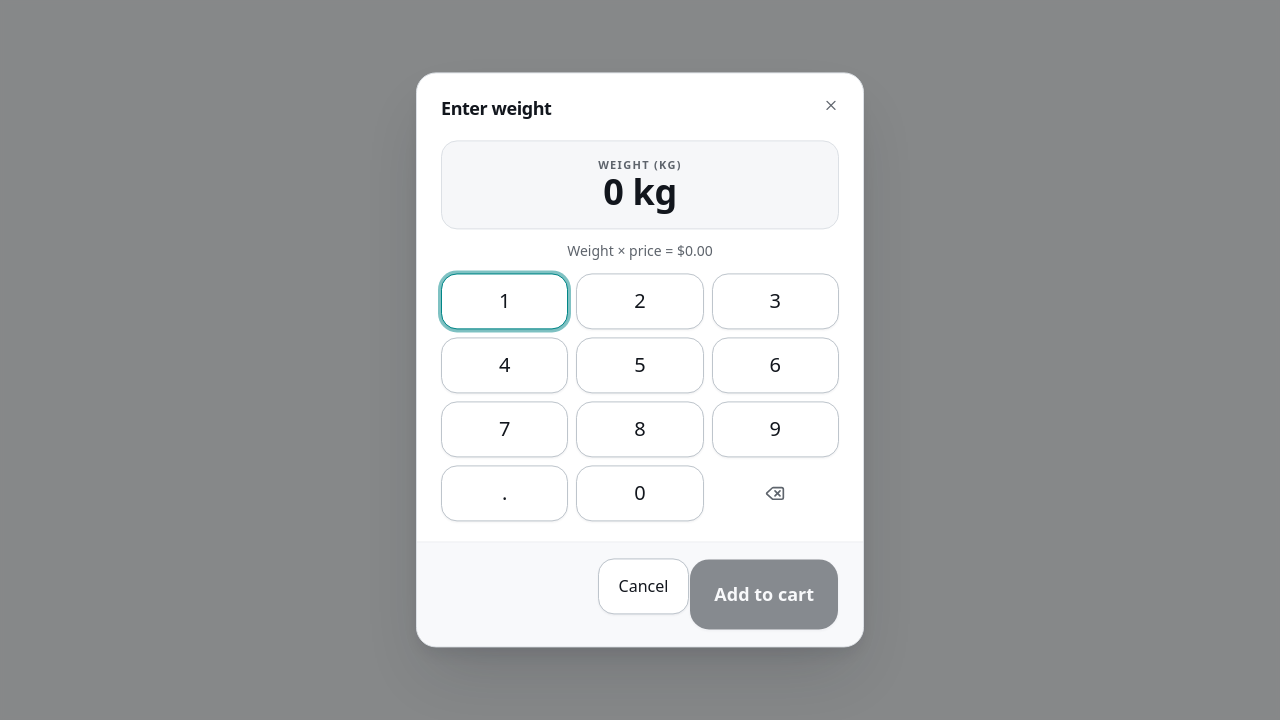
Test: WeightEntryDialog › keeps confirmation disabled until a positive weight is entered
The width and height of the screenshot is (1280, 720).
Expected: the button "Add to cart" is disabled, [689, 559, 839, 631]
Click the button "1" at (505, 302), box [441, 274, 568, 330]
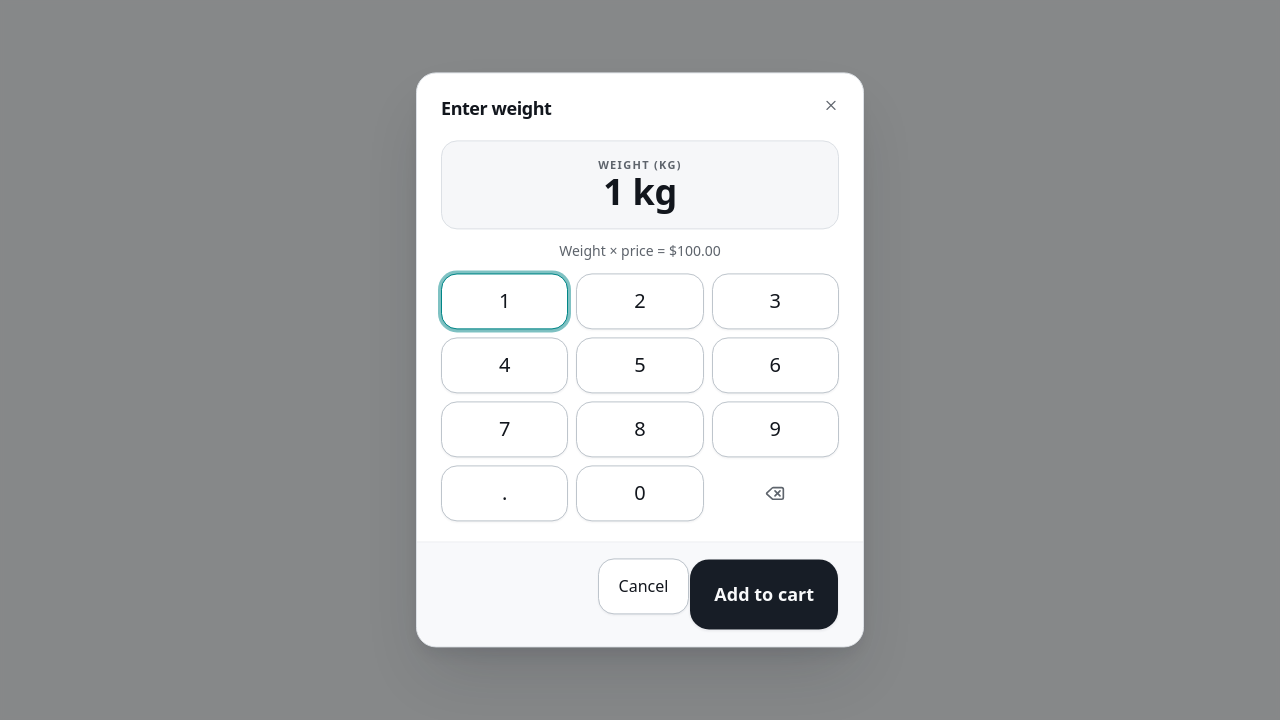
Expected: the button "Add to cart" is enabled, [689, 559, 839, 631]
